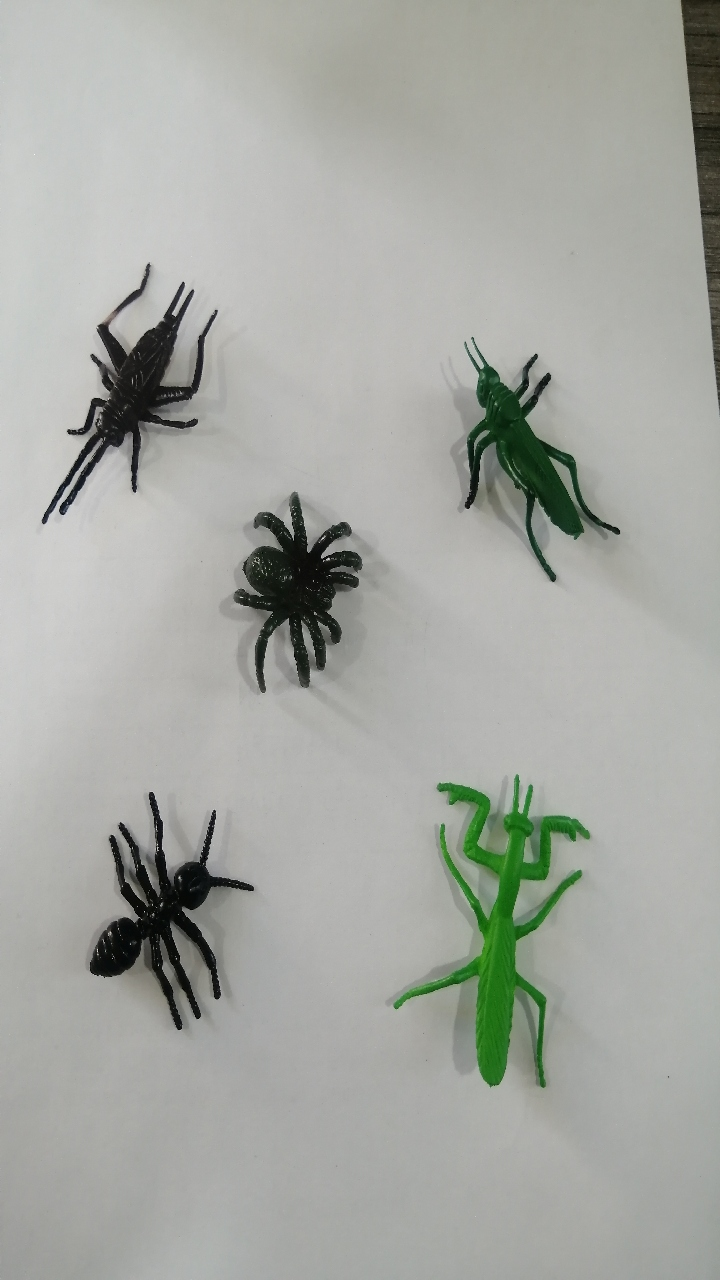intruso: (377, 737, 620, 1149), (421, 288, 644, 617), (17, 235, 235, 531), (51, 760, 264, 1057), (218, 455, 389, 726)
